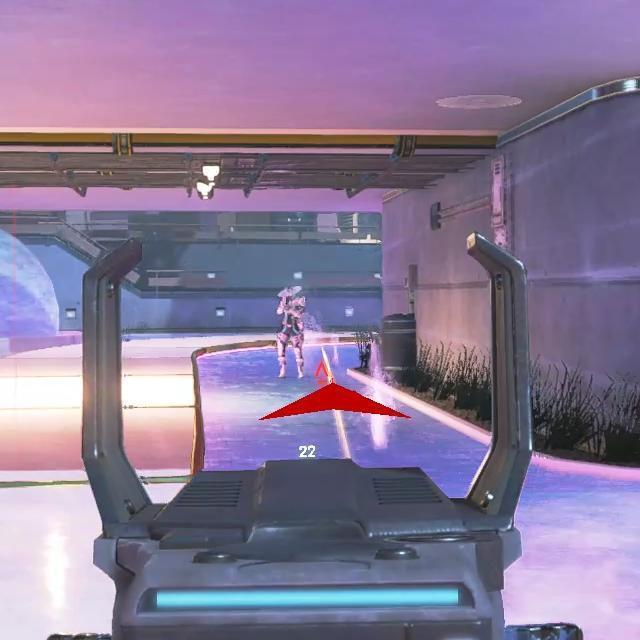avatar: (275, 285, 309, 379)
